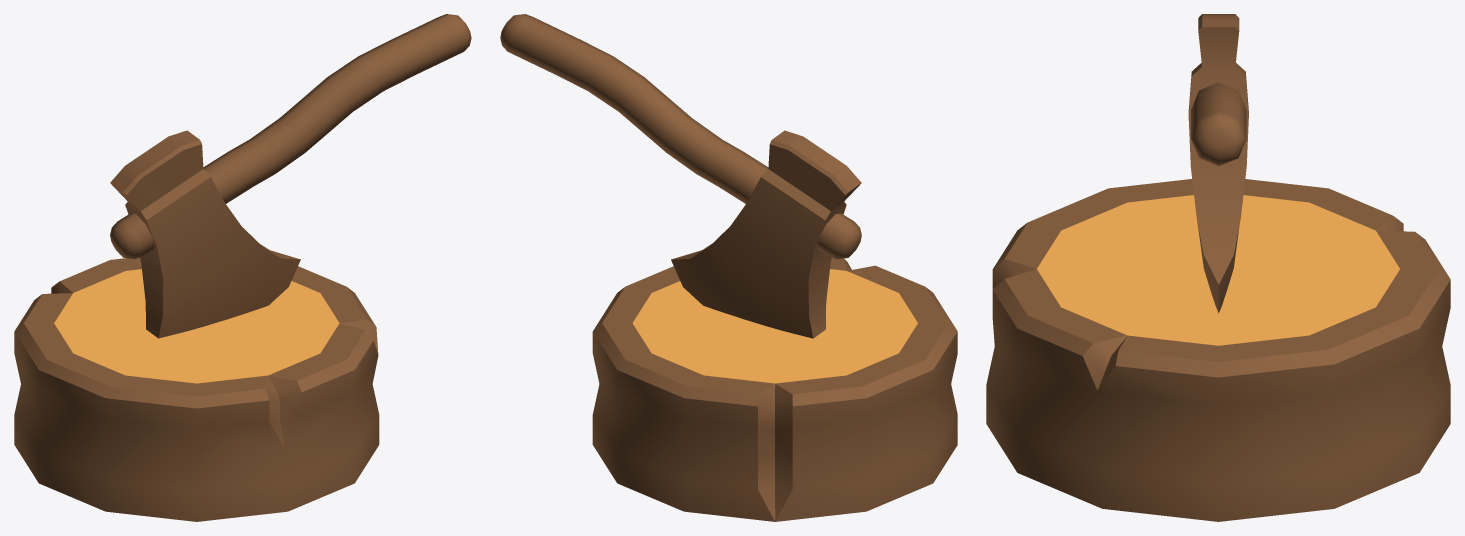
Rendered from logAxe.glb.
The picture shows the model from 3 angles, left to right: view 1: azimuth 30°, elevation 25°; view 2: azimuth 150°, elevation 25°; view 3: azimuth 270°, elevation 25°; orthographic projection. The views are drawn at different scales.
Visible parts, largest first — view 1: logAxe; view 2: logAxe; view 3: logAxe.
Part boxes in pixels (x1,y1,x2,y2): logAxe: (14, 14, 471, 521); logAxe: (500, 14, 957, 521); logAxe: (986, 14, 1450, 521).
Size of the model in its own units: 1.16 by 0.95 by 0.8539.
